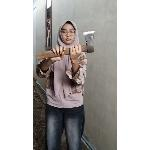Kapak: (35, 28, 97, 62)
